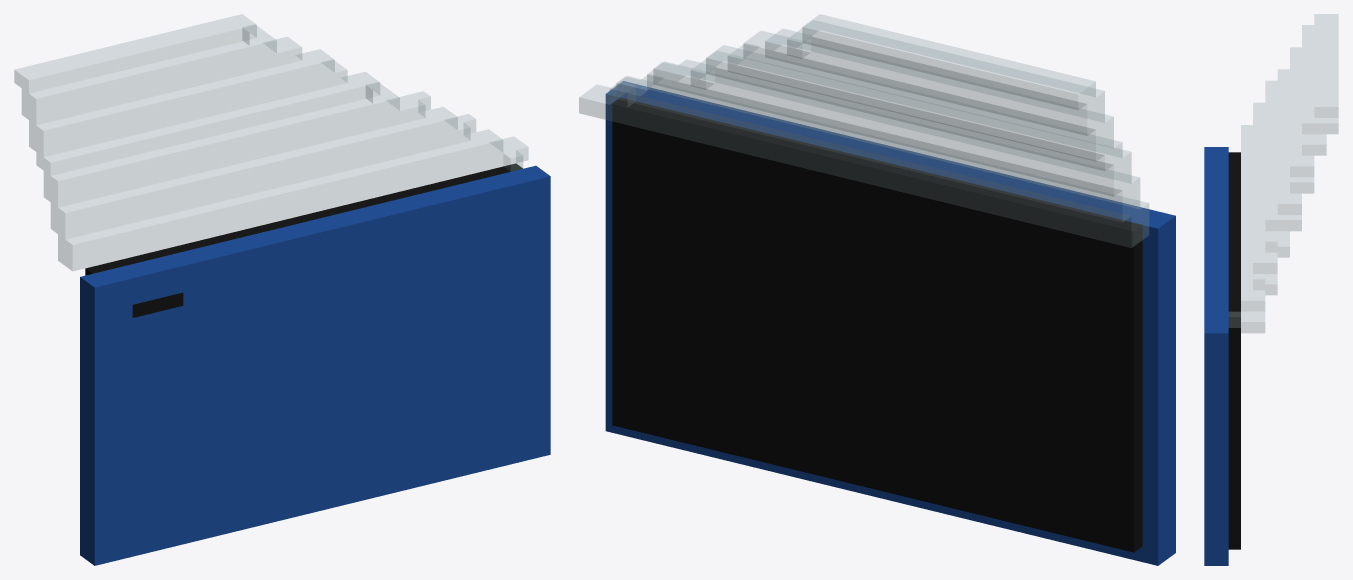
Rendered from muscle_car_front_door.glb.
3 views of the same model, side by side, from view 1: azimuth 30°, elevation 25°; view 2: azimuth 150°, elevation 25°; view 3: azimuth 270°, elevation 25° (orthographic). The views are drawn at different scales.
Visible parts, largest first — view 1: body:compound; view 2: body:compound; view 3: body:compound.
Part boxes in pixels (<box>): body:compound: <box>14,14,550,565</box>; body:compound: <box>579,14,1175,565</box>; body:compound: <box>1204,14,1338,565</box>.
Bounding box in the file's own units: 1.12 × 1.03 × 0.3438.
